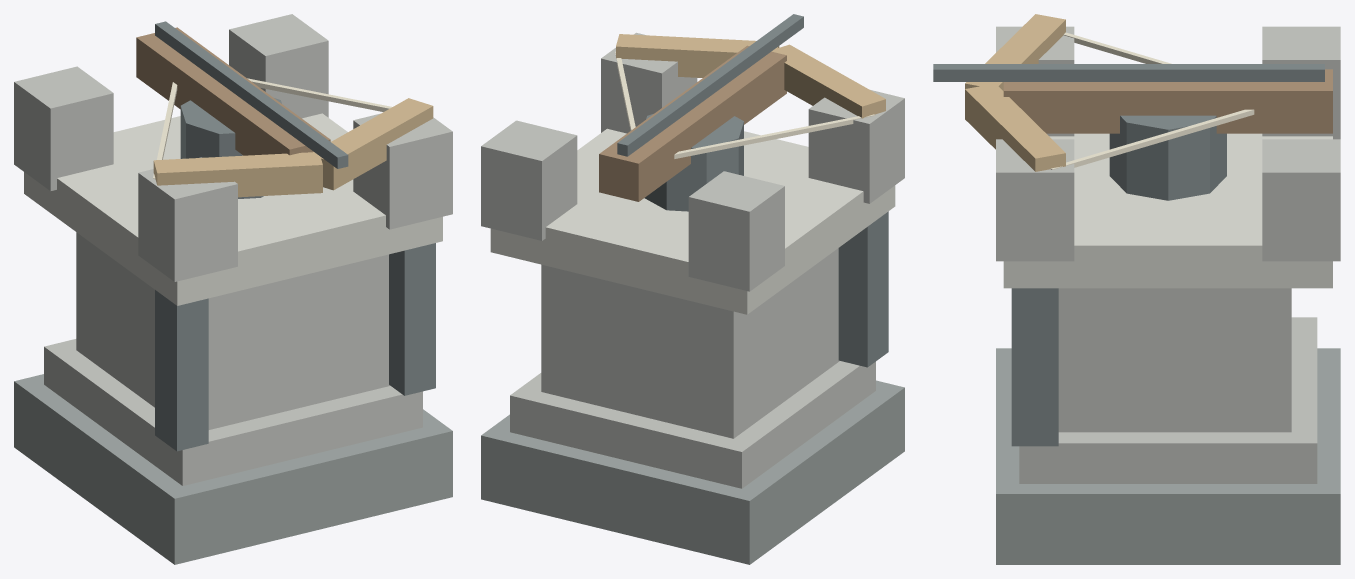
File: human_ballista_t2.glb
3 views of the same model, side by side, from view 1: azimuth 30°, elevation 25°; view 2: azimuth 150°, elevation 25°; view 3: azimuth 270°, elevation 25° (orthographic). The views are drawn at different scales.
Parts seen in each view (by area): view 1: human_ballista_t2_MAT_stone, human_ballista_t2_MAT_dark, human_ballista_t2_MAT_light, human_ballista_t2_MAT_iron, human_ballista_t2_MAT_edge, human_ballista_t2_MAT_wood, human_ballista_t2_MAT_white; view 2: human_ballista_t2_MAT_stone, human_ballista_t2_MAT_dark, human_ballista_t2_MAT_light, human_ballista_t2_MAT_iron, human_ballista_t2_MAT_wood, human_ballista_t2_MAT_edge, human_ballista_t2_MAT_white; view 3: human_ballista_t2_MAT_stone, human_ballista_t2_MAT_dark, human_ballista_t2_MAT_light, human_ballista_t2_MAT_iron, human_ballista_t2_MAT_wood, human_ballista_t2_MAT_edge, human_ballista_t2_MAT_white.
Boxes of the visible parts, x1,y1,x2,y2 form: human_ballista_t2_MAT_stone: [14, 14, 452, 485]; human_ballista_t2_MAT_dark: [14, 374, 452, 564]; human_ballista_t2_MAT_light: [24, 113, 442, 305]; human_ballista_t2_MAT_iron: [155, 21, 435, 451]; human_ballista_t2_MAT_edge: [153, 98, 433, 197]; human_ballista_t2_MAT_wood: [136, 27, 330, 155]; human_ballista_t2_MAT_white: [153, 78, 391, 178]; human_ballista_t2_MAT_stone: [481, 32, 904, 488]; human_ballista_t2_MAT_dark: [481, 380, 904, 564]; human_ballista_t2_MAT_light: [490, 128, 895, 314]; human_ballista_t2_MAT_iron: [617, 14, 888, 367]; human_ballista_t2_MAT_wood: [599, 45, 786, 201]; human_ballista_t2_MAT_edge: [616, 34, 885, 118]; human_ballista_t2_MAT_white: [615, 51, 875, 158]; human_ballista_t2_MAT_stone: [996, 26, 1340, 483]; human_ballista_t2_MAT_dark: [996, 348, 1340, 564]; human_ballista_t2_MAT_light: [1003, 133, 1332, 288]; human_ballista_t2_MAT_iron: [933, 64, 1324, 446]; human_ballista_t2_MAT_wood: [1003, 69, 1332, 133]; human_ballista_t2_MAT_edge: [965, 14, 1065, 171]; human_ballista_t2_MAT_white: [1050, 32, 1254, 169].
Bounding box in the file's own units: 0.88 × 1.2 × 1.04.
